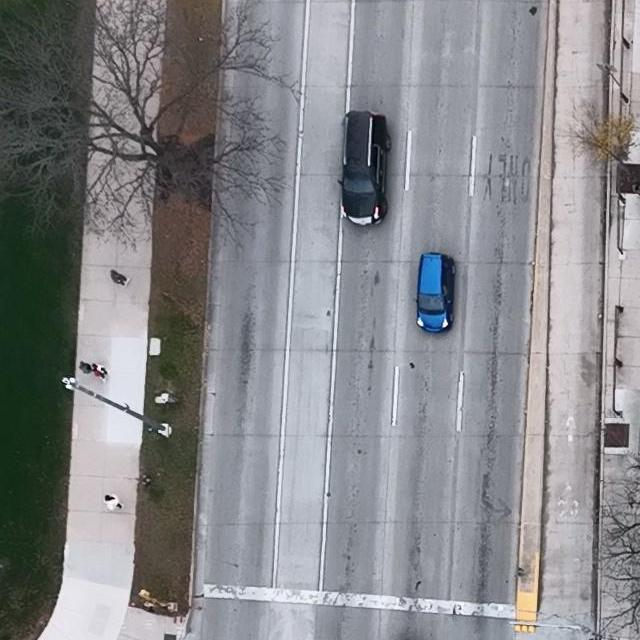car: (337, 110, 393, 227), (413, 253, 456, 334)
